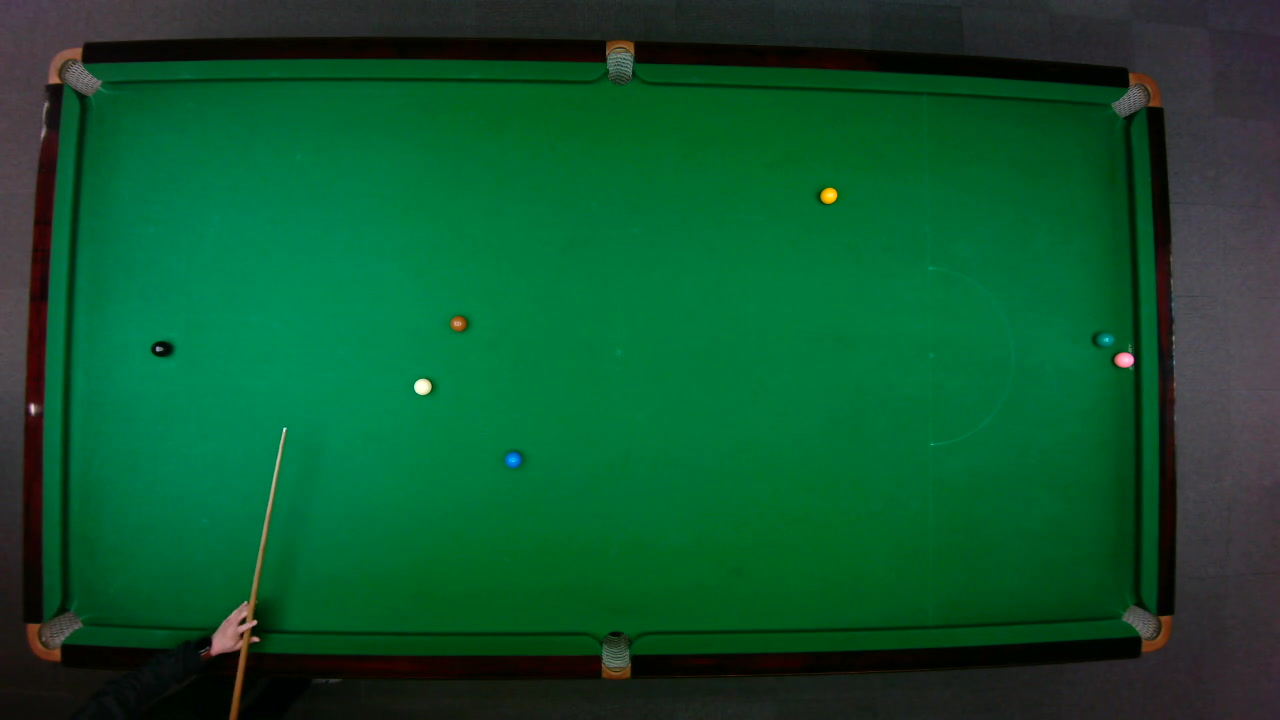bag: (25, 609, 84, 661), (45, 46, 102, 96), (1119, 603, 1172, 652), (1108, 71, 1161, 118), (600, 629, 629, 680), (605, 38, 633, 85)
black: (149, 339, 171, 357)
blue: (504, 450, 521, 468)
brown: (448, 314, 467, 331)
cue: (228, 425, 287, 720)
green: (1093, 330, 1114, 347)
pink: (1112, 350, 1135, 368)
white: (412, 377, 432, 395)
yellow: (818, 185, 838, 204)
zone: (927, 265, 1013, 445)
